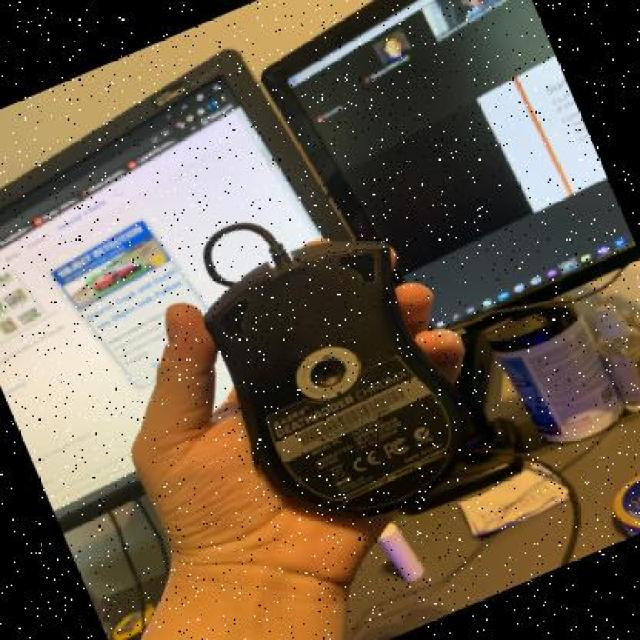mause: (183, 122, 631, 546)
